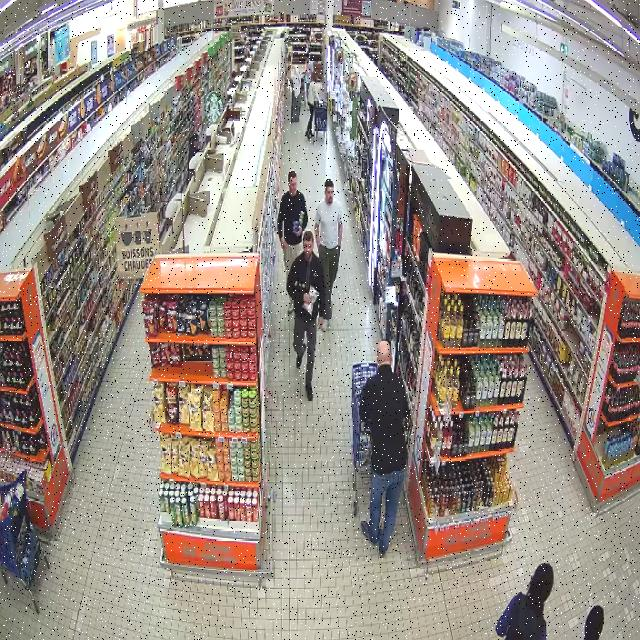article: (300, 285, 320, 316), (293, 220, 302, 232), (294, 280, 306, 288), (299, 210, 305, 223)
hands: (303, 293, 311, 305), (280, 237, 287, 250), (295, 226, 302, 236)
person: (359, 341, 409, 557), (286, 231, 325, 400), (495, 564, 552, 639), (315, 179, 343, 331), (277, 170, 307, 274)
